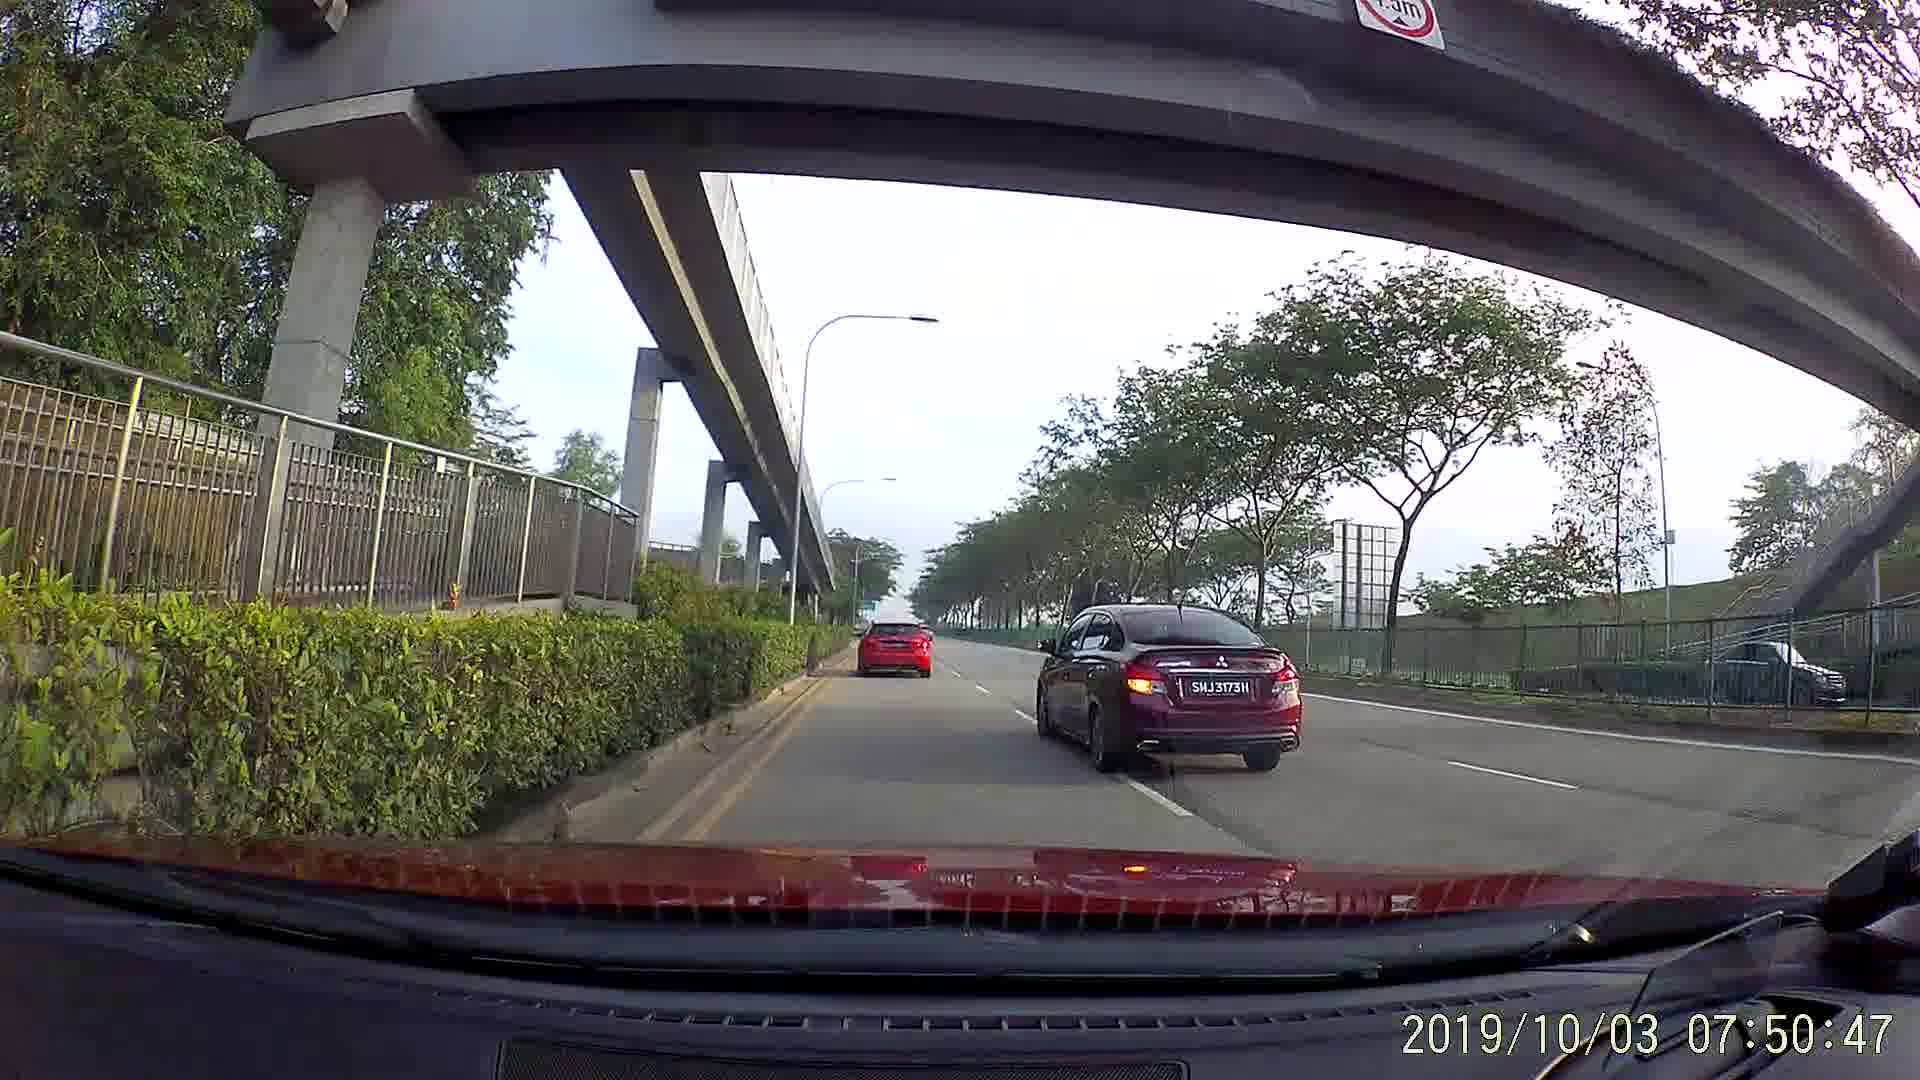car: (1033, 597, 1304, 785), (1695, 637, 1847, 705), (855, 620, 934, 679)
